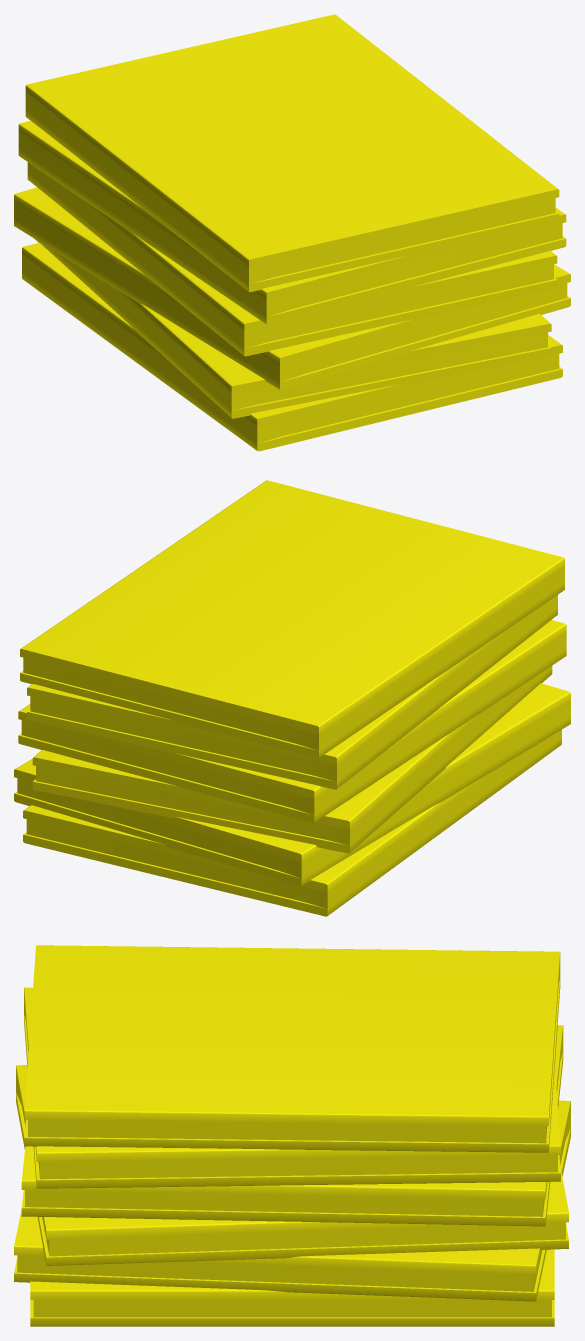
File: umgebung_heft_stapel_low.FBX
3 views of the same model, one above another, from view 1: azimuth 30°, elevation 25°; view 2: azimuth 150°, elevation 25°; view 3: azimuth 270°, elevation 25° (orthographic). The views are drawn at different scales.
Parts seen in each view (by area): view 1: i_schmudelheft_stapel_5_low, i_schmudelheft_stapel_2_low, i_schmudelheft_stapel_4_low, i_schmudelheft_stapel_3_low, o_schmudelheft_stapel_low, i_schmudelheft_stapel_1_low; view 2: i_schmudelheft_stapel_5_low, i_schmudelheft_stapel_3_low, i_schmudelheft_stapel_1_low, o_schmudelheft_stapel_low, i_schmudelheft_stapel_4_low, i_schmudelheft_stapel_2_low; view 3: i_schmudelheft_stapel_5_low, i_schmudelheft_stapel_3_low, i_schmudelheft_stapel_2_low, i_schmudelheft_stapel_4_low, i_schmudelheft_stapel_1_low, o_schmudelheft_stapel_low.
Part boxes in pixels (<box>): i_schmudelheft_stapel_5_low: <box>25,14,559,291</box>; i_schmudelheft_stapel_2_low: <box>14,187,570,390</box>; i_schmudelheft_stapel_4_low: <box>18,120,566,324</box>; i_schmudelheft_stapel_3_low: <box>27,162,557,356</box>; o_schmudelheft_stapel_low: <box>22,242,562,451</box>; i_schmudelheft_stapel_1_low: <box>34,238,551,418</box>; i_schmudelheft_stapel_5_low: <box>20,480,564,758</box>; i_schmudelheft_stapel_3_low: <box>18,620,566,822</box>; i_schmudelheft_stapel_1_low: <box>14,683,570,886</box>; o_schmudelheft_stapel_low: <box>23,729,561,916</box>; i_schmudelheft_stapel_4_low: <box>27,595,557,789</box>; i_schmudelheft_stapel_2_low: <box>32,666,552,853</box>; i_schmudelheft_stapel_5_low: <box>24,945,560,1152</box>; i_schmudelheft_stapel_3_low: <box>21,1025,563,1226</box>; i_schmudelheft_stapel_2_low: <box>16,1065,568,1265</box>; i_schmudelheft_stapel_4_low: <box>24,987,560,1188</box>; i_schmudelheft_stapel_1_low: <box>14,1100,570,1301</box>; o_schmudelheft_stapel_low: <box>30,1249,554,1326</box>.
Size of the model in its own units: 23.39 by 29.74 by 12.59.
